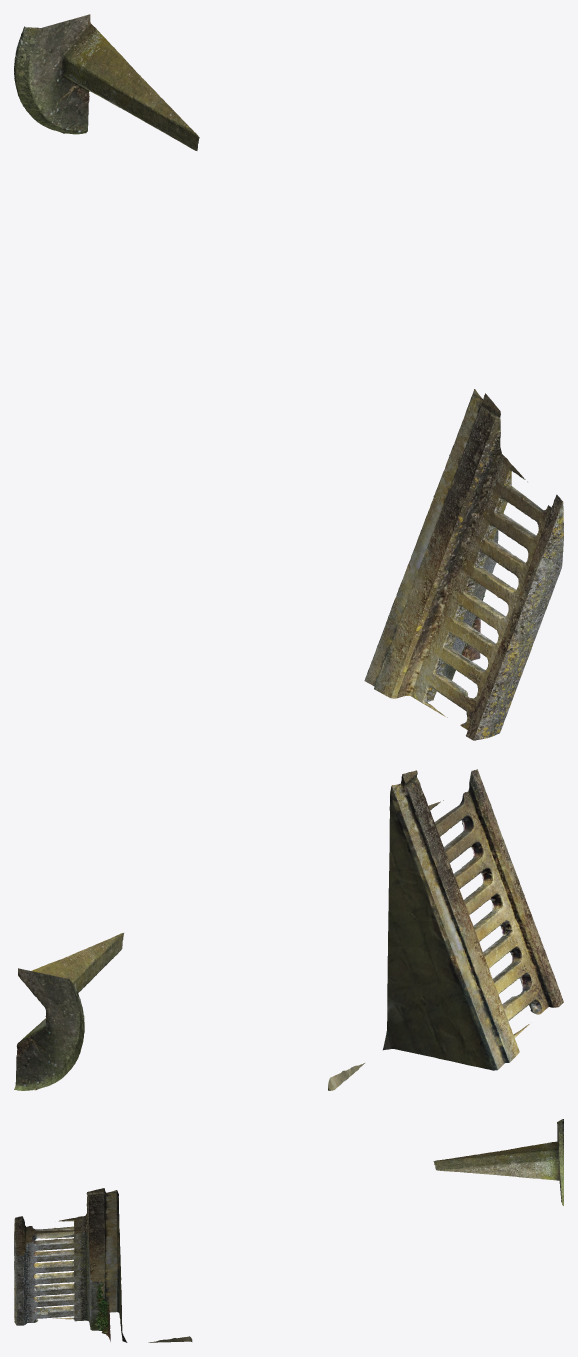
Rendered from Tile_+007_+015.obj.
The picture shows the model from 3 angles, top to bottom: view 1: azimuth 30°, elevation 25°; view 2: azimuth 150°, elevation 25°; view 3: azimuth 270°, elevation 25°; orthographic projection. The views are drawn at different scales.
Bounding box in the file's own units: 0.9813 × 3.03 × 7.31.
1 material, 1 textured.
